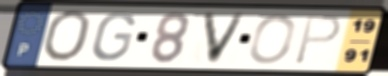8: (150, 11, 193, 65)
G: (89, 10, 138, 63)
O: (39, 9, 93, 64), (246, 13, 299, 66)
P: (291, 14, 344, 66)
V: (200, 10, 250, 66)
